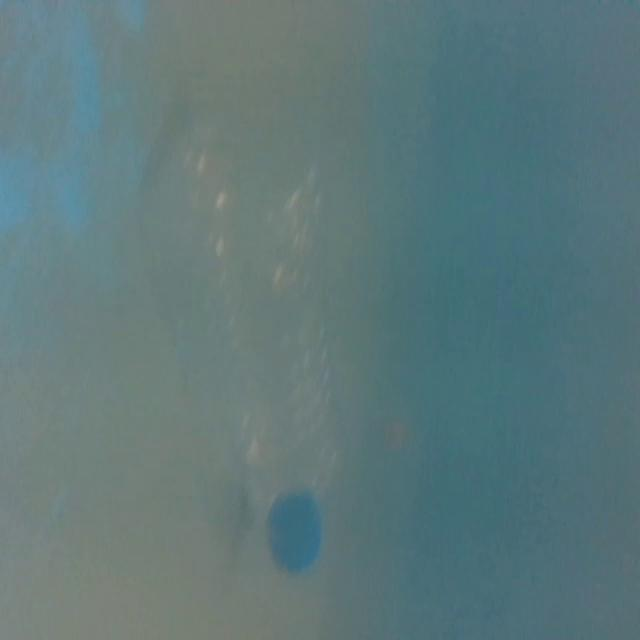plastic bottle: (151, 116, 356, 580)
